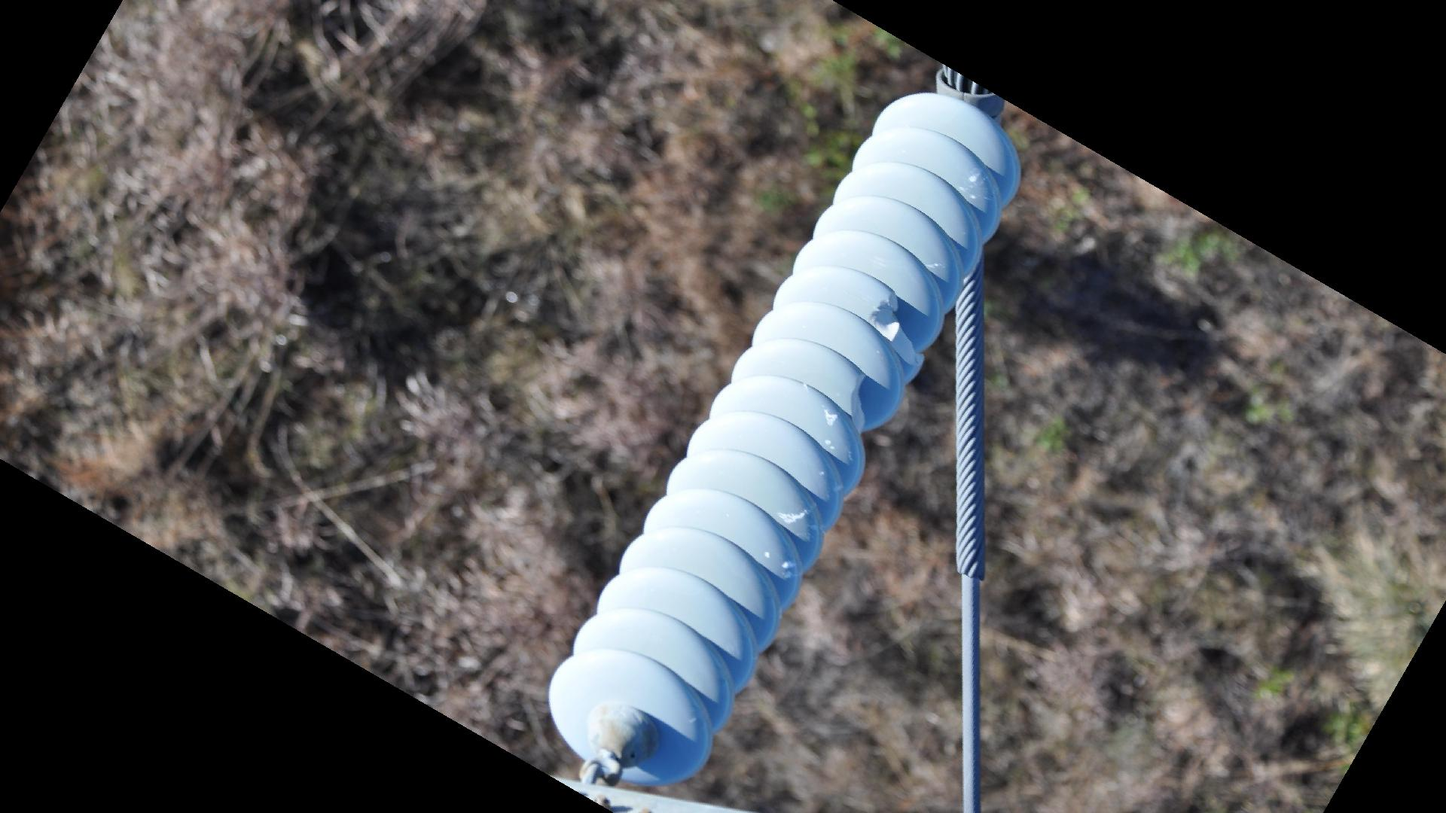insulator: (541, 86, 1028, 786)
insulator_breakage: (865, 282, 931, 373)
